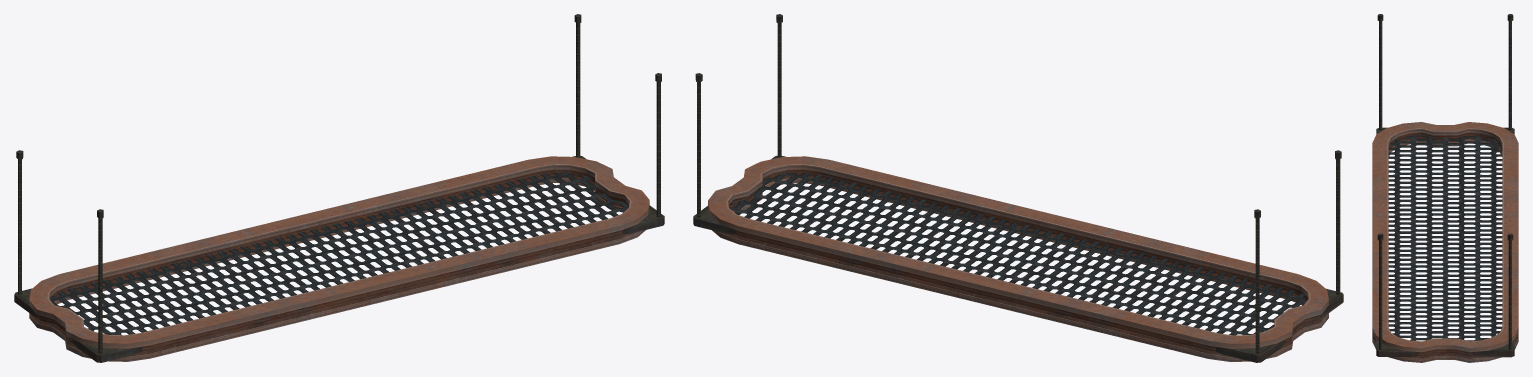
File: support_holder_hanging.dae
The picture shows the model from 3 angles, left to right: view 1: azimuth 30°, elevation 25°; view 2: azimuth 150°, elevation 25°; view 3: azimuth 270°, elevation 25°; orthographic projection. The views are drawn at different scales.
Parts seen in each view (by area): view 1: support, grate; view 2: support, grate; view 3: grate, support.
Boxes of the visible parts, x1=… form: support: x1=14, y1=14, x2=664, y2=362; grate: x1=50, y1=172, x2=628, y2=335; support: x1=693, y1=14, x2=1343, y2=362; grate: x1=729, y1=172, x2=1307, y2=335; grate: x1=1388, y1=135, x2=1502, y2=341; support: x1=1372, y1=14, x2=1518, y2=362.
Bounding box in the file's own units: 4.12 × 1.06 × 1.12.
2 materials, 2 textured.
